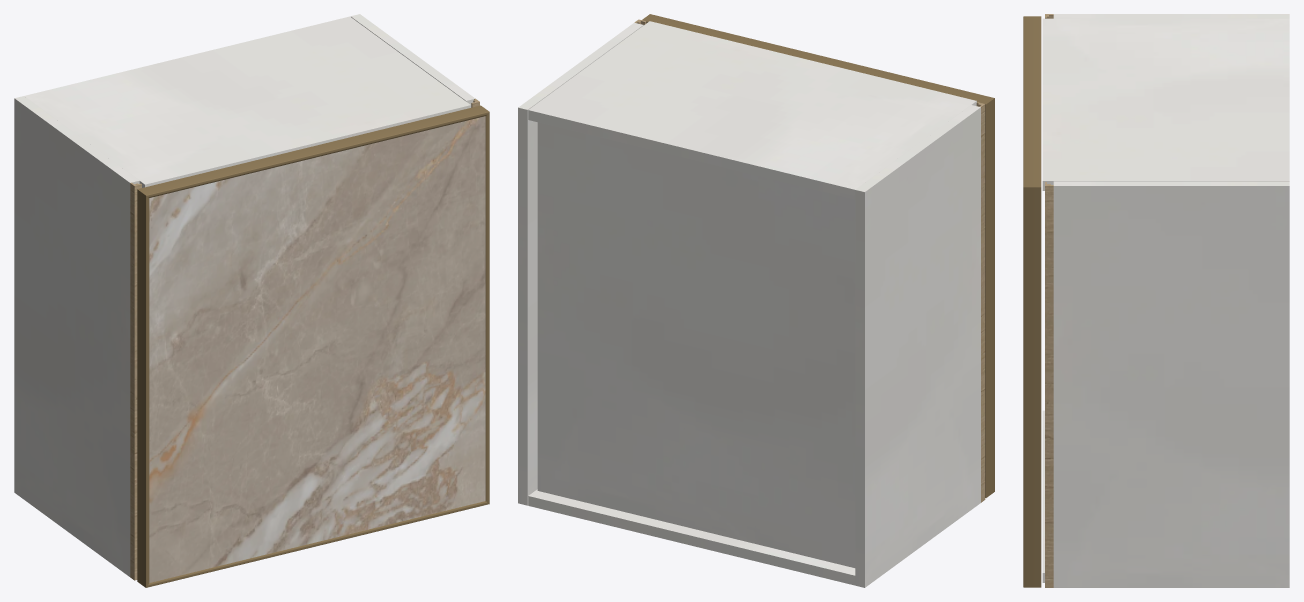
Rendered from LO-SH-NHX-ST-1SX-LHS-XXX-550-600-336-15.glb.
The picture shows the model from 3 angles, left to right: view 1: azimuth 30°, elevation 25°; view 2: azimuth 150°, elevation 25°; view 3: azimuth 270°, elevation 25°; orthographic projection.
Visible parts, largest first — view 1: Object_node_4, TP_node_0, TP, Extrusion_node_1, Extrusion, Object_node_6, Extrusion_node, Extrusion_node_0, TP_node_1; view 2: TP_node_2, TP_node_0, TP, TP_node_1, TP_node, Extrusion_node_1, Extrusion, Object_node_6; view 3: TP_node_1, TP, Extrusion_node, Object_node_12, Extrusion, TP_node_0, TP_node.
Part boxes in pixels (x1,y1,x2,y2): Object_node_4: (149,116,485,582); TP_node_0: (14,96,139,576); TP: (24,16,470,187); Extrusion_node_1: (137,189,149,587); Extrusion: (137,105,489,197); Object_node_6: (130,182,141,580); Extrusion_node: (485,112,489,503); Extrusion_node_0: (146,501,489,587); TP_node_1: (350,14,474,107); TP_node_2: (537,122,855,567); TP_node_0: (855,105,980,587); TP: (528,21,976,199); TP_node_1: (518,22,643,505); TP_node: (528,489,855,585); Extrusion_node_1: (985,98,994,497); Extrusion: (642,14,994,104); Object_node_6: (976,102,985,502); TP_node_1: (1053,181,1289,587); TP: (1042,18,1289,190); Extrusion_node: (1023,187,1041,587); Object_node_12: (1045,182,1053,587); Extrusion: (1023,16,1041,187); TP_node_0: (1053,14,1289,18); TP_node: (1042,410,1044,582).
Size of what is drawn, in the model's own units: 0.55 by 0.6 by 0.3602.
Materials: 7 (3 with a texture image).
